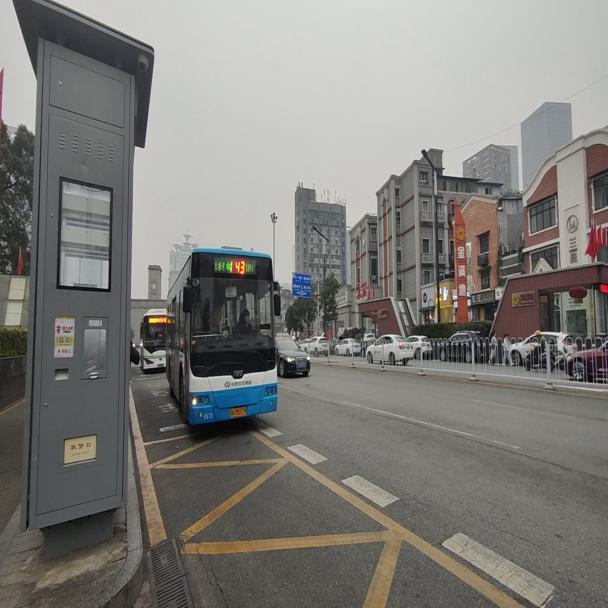bus: (164, 245, 282, 434), (138, 305, 164, 367)
screen: (228, 259, 245, 276)
